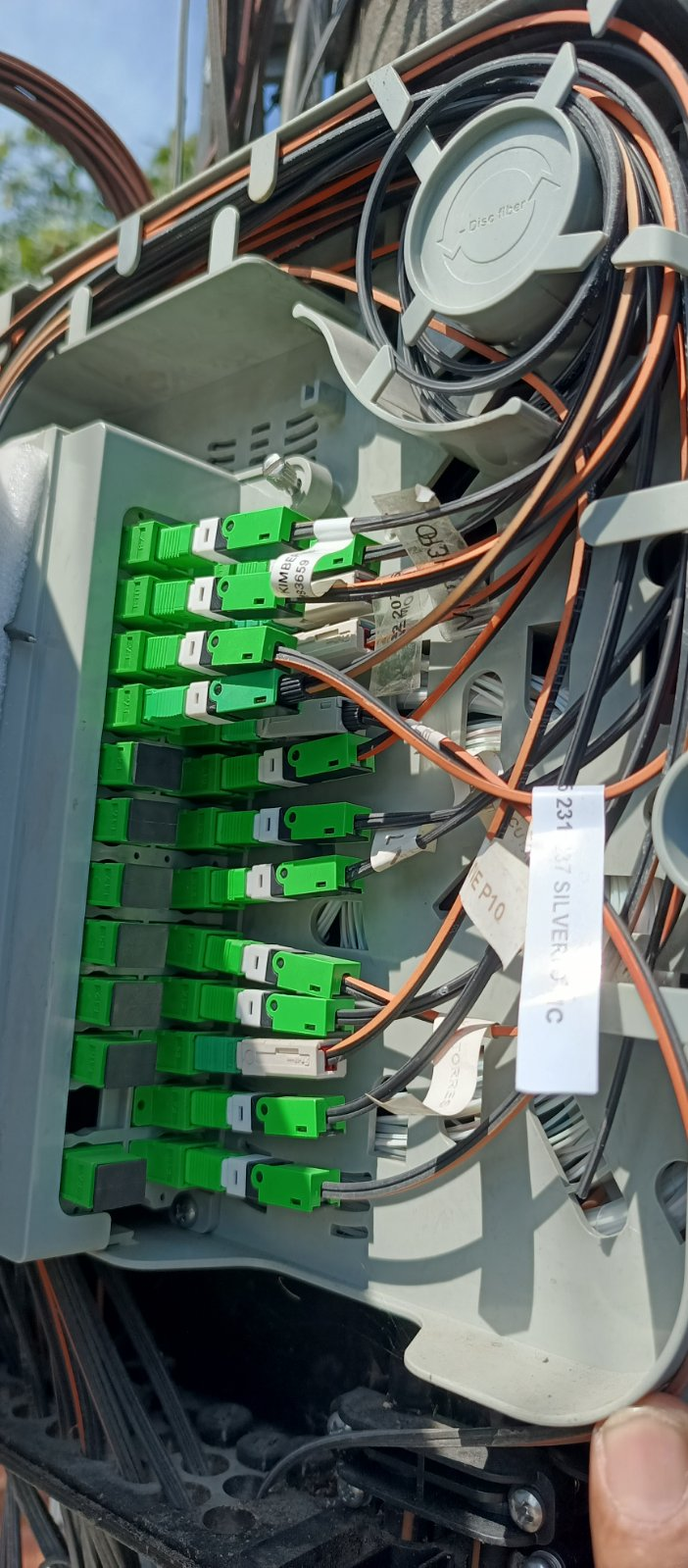no port: (62, 1084, 129, 1140)
occupied: (203, 930, 375, 1009), (140, 664, 328, 730), (203, 619, 386, 686), (185, 1144, 355, 1216), (198, 980, 371, 1042), (190, 1084, 357, 1144), (220, 730, 385, 790), (148, 568, 317, 626), (215, 574, 386, 630), (155, 505, 321, 562), (212, 853, 374, 908), (193, 1032, 356, 1085), (224, 693, 385, 745), (226, 531, 384, 583), (214, 802, 378, 849), (145, 624, 294, 673)
vacant: (91, 1157, 149, 1213), (108, 981, 168, 1033), (100, 1040, 161, 1089), (124, 795, 180, 846), (114, 921, 170, 970), (132, 740, 184, 791), (122, 864, 174, 909)
